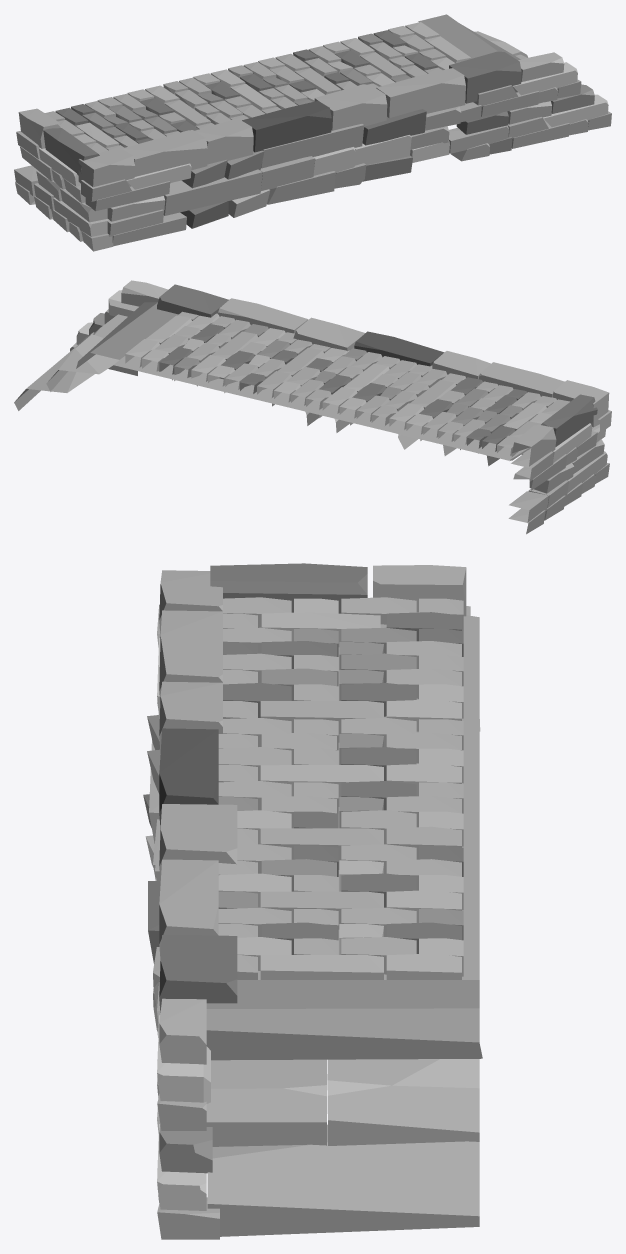
The model's file is EA03_Village_HouseModule_Porch_R_03b.glb.
3 renders of one model, top to bottom at view 1: azimuth 30°, elevation 25°; view 2: azimuth 150°, elevation 25°; view 3: azimuth 270°, elevation 25°, orthographic. The views are drawn at different scales.
Visible parts, largest first — view 1: EA03_Village_HouseModule_Porch_R_03b; view 2: EA03_Village_HouseModule_Porch_R_03b; view 3: EA03_Village_HouseModule_Porch_R_03b.
Boxes of the visible parts, bbox=[...] form: EA03_Village_HouseModule_Porch_R_03b: bbox=[14, 14, 611, 251]; EA03_Village_HouseModule_Porch_R_03b: bbox=[14, 280, 611, 534]; EA03_Village_HouseModule_Porch_R_03b: bbox=[143, 563, 482, 1239].
Size of the model in its own units: 6.34 by 1.01 by 1.8.
1 material, 1 textured.
